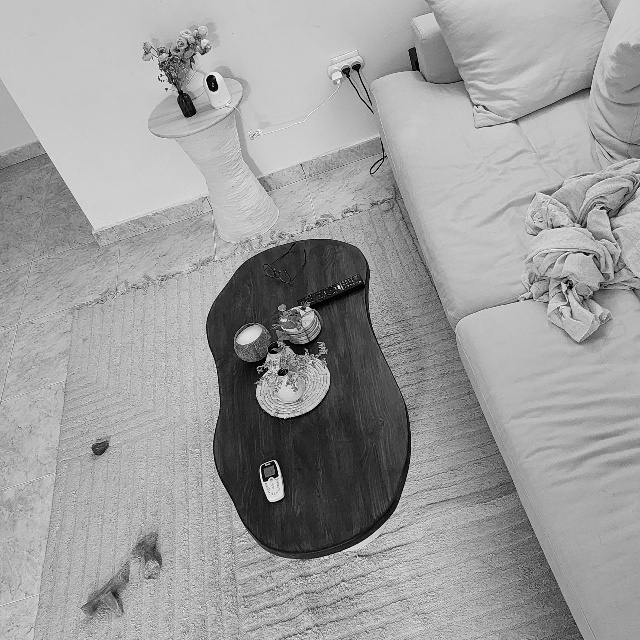glasses: (261, 242, 311, 286)
